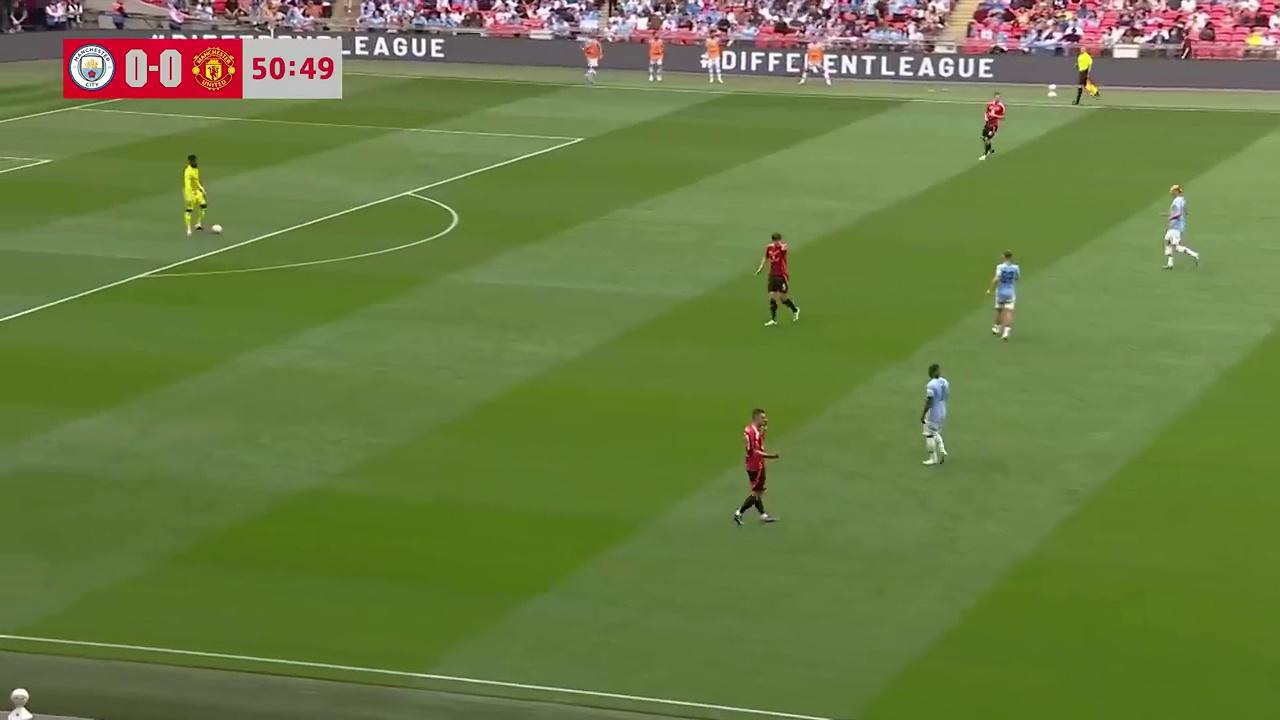ball: (210, 221, 224, 234)
player: (732, 411, 781, 526), (756, 232, 801, 326), (1166, 184, 1201, 279), (919, 362, 950, 466), (985, 249, 1020, 338), (180, 153, 206, 236), (979, 93, 1005, 159)
referee: (1073, 48, 1098, 104)
